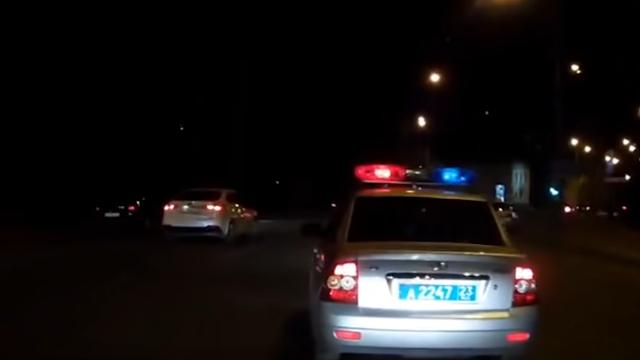non emergency car: (158, 188, 258, 244), (90, 188, 154, 234)
police car: (307, 164, 543, 352)
